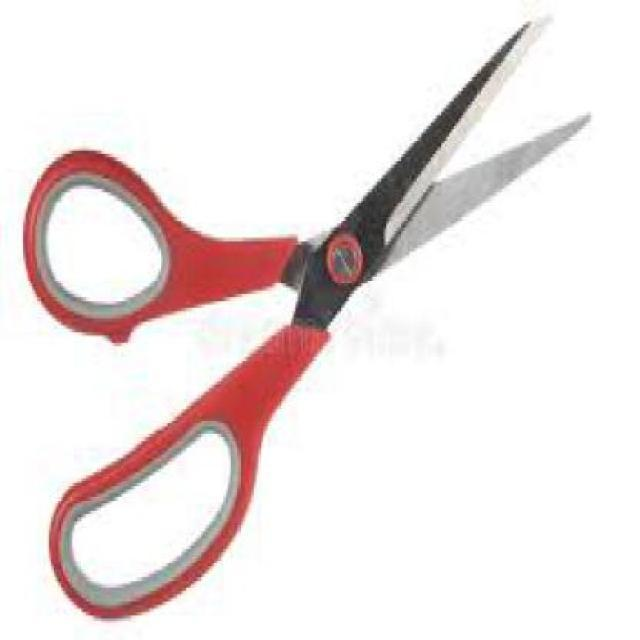scissors: (23, 10, 594, 616)
